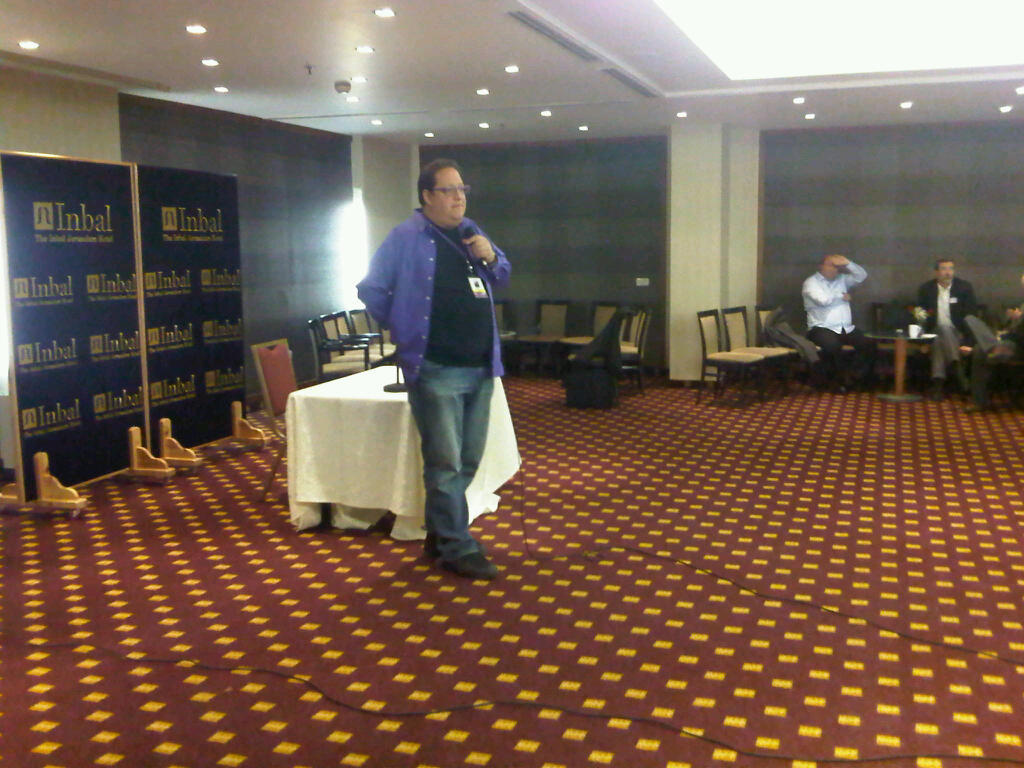Footwear: (445, 548, 499, 583), (983, 342, 1015, 369), (926, 375, 948, 402), (961, 397, 988, 416), (829, 379, 851, 398), (953, 375, 971, 396)
